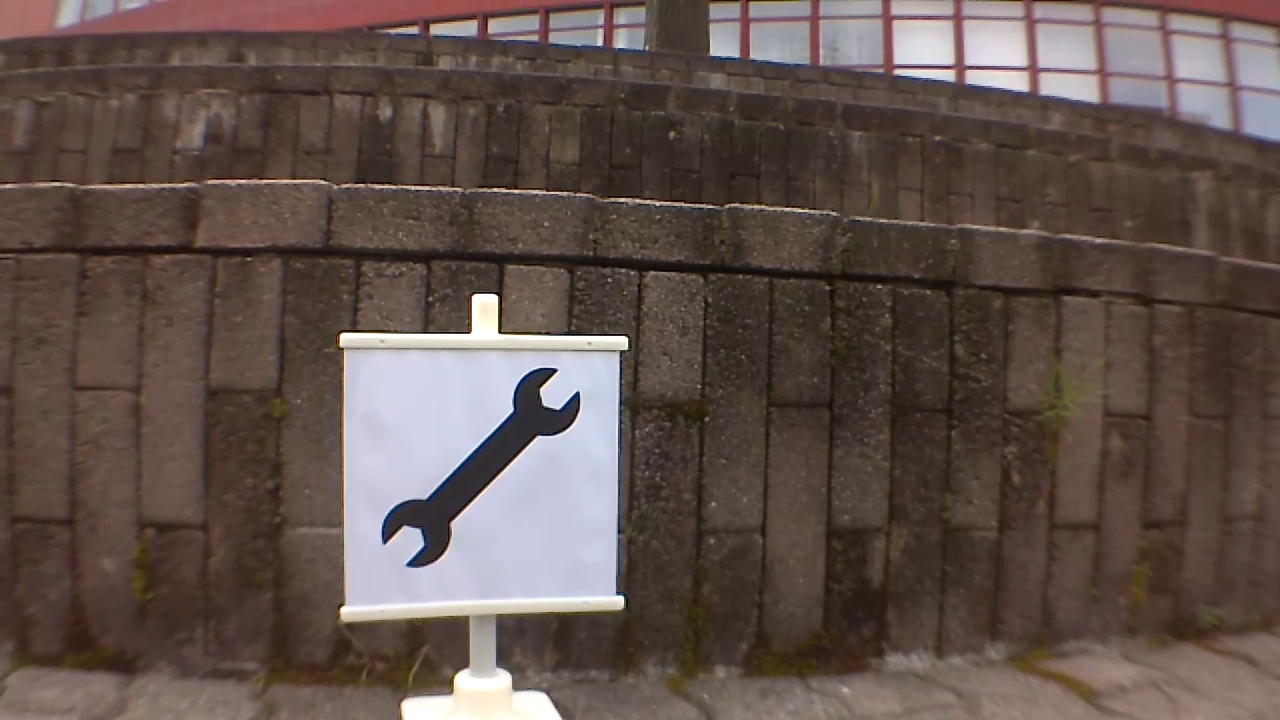wrench: (382, 365, 589, 570)
